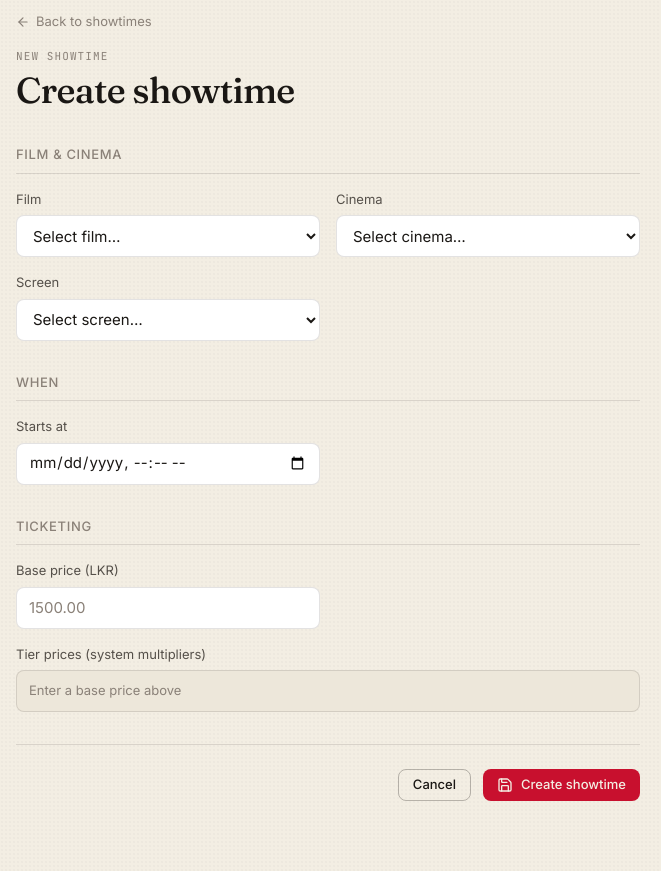
Test: AdminShowtimeFormPage › validates required fields before submitting
The image size is (661, 871).
Expected: the heading "Create showtime" is shown, [16, 68, 295, 112]
Click the button "Create showtime" at (562, 784), box [483, 768, 640, 800]
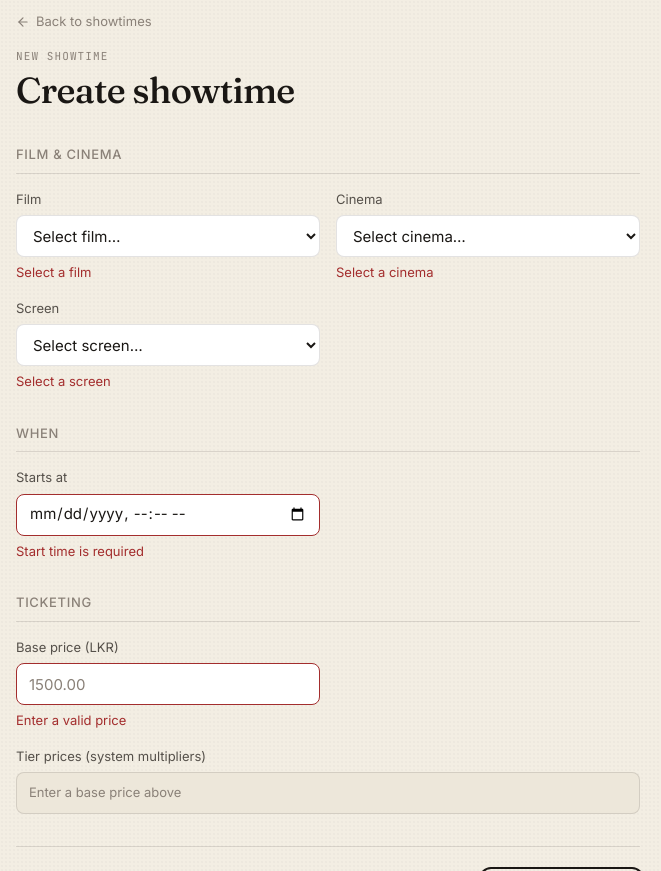
Expected: the text "Select a film" is shown, [16, 264, 91, 280]
Expected: the text "Select a cinema" is shown, [336, 264, 434, 280]
Expected: the text "Start time is required" is shown, [16, 542, 144, 558]
